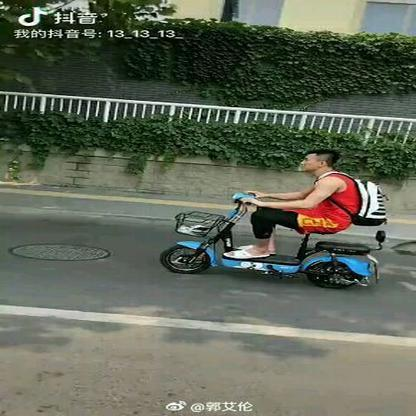target: (157, 148, 389, 291)
